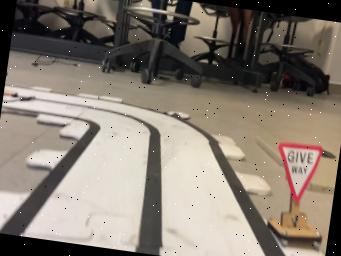give_way: (267, 142, 324, 246)
street: (0, 89, 286, 256)
